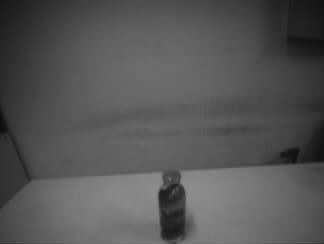Bottle: (158, 170, 187, 244)
